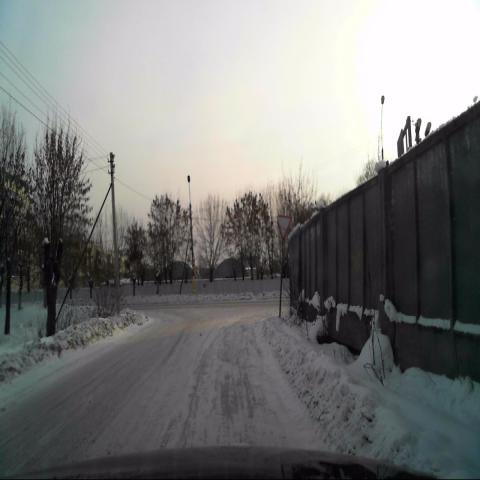2_4: (276, 214, 292, 240)
